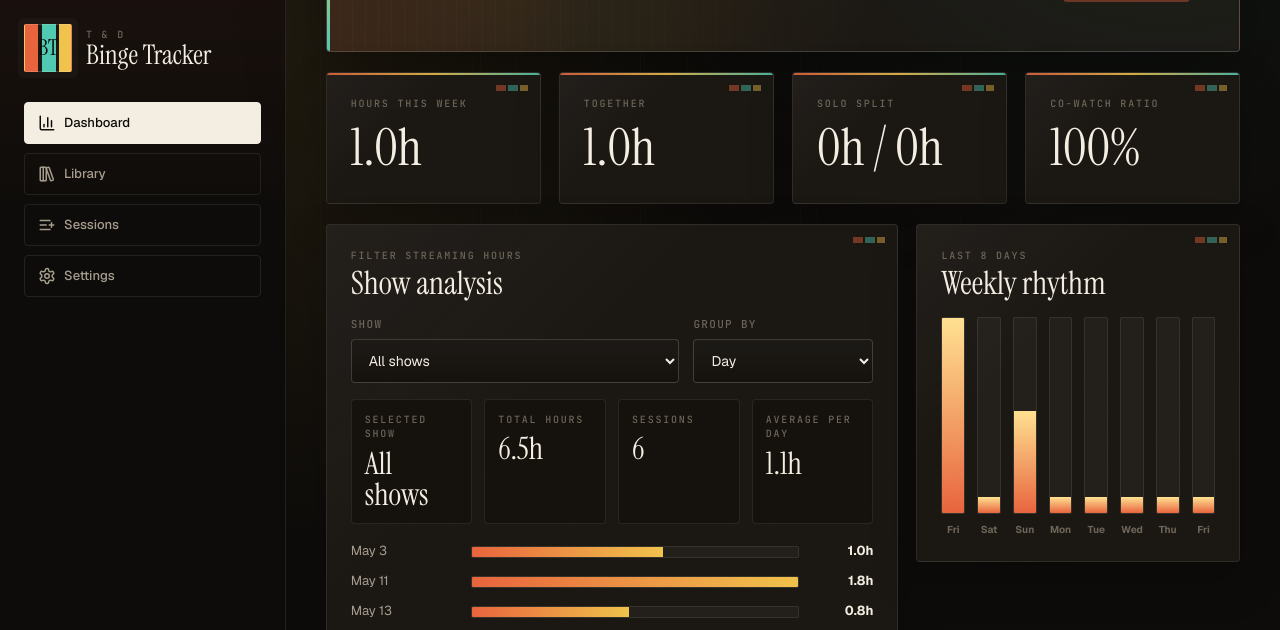
Test: filters dashboard analysis by show and time grouping
(page scrolled)
Check: the heading "Show analysis" is shown, box [351,268,522,299]
Select "Severance" in the dropdown named "analysis show" at (515, 361), box [351,339,680,383]
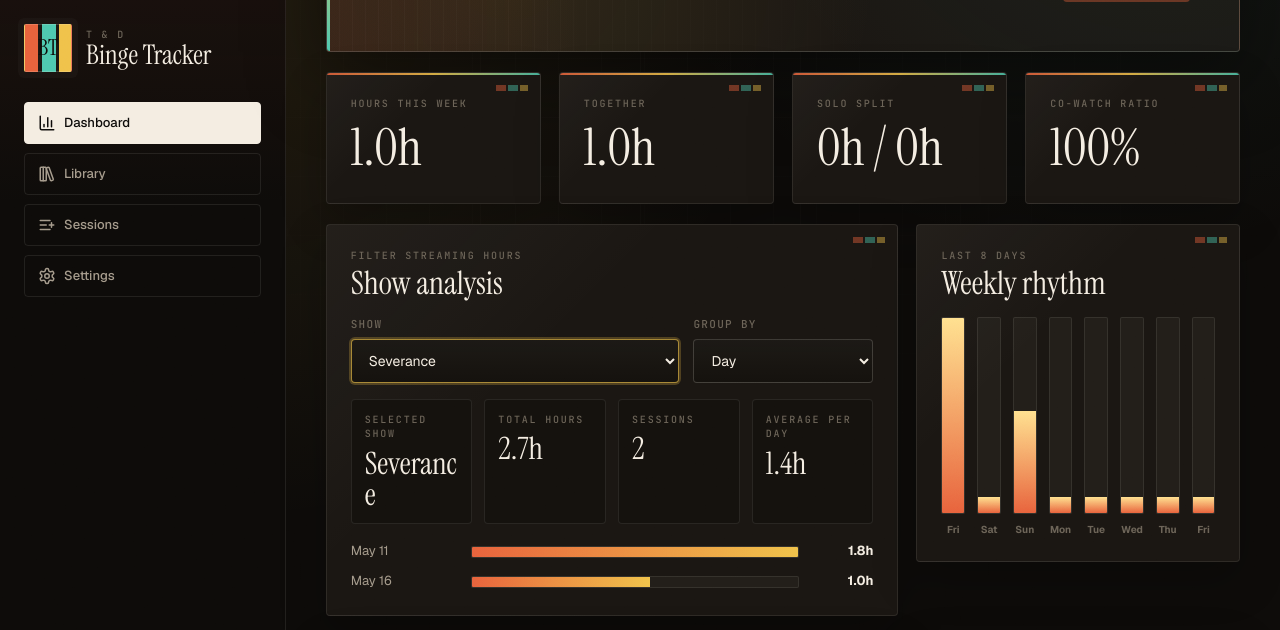
Select "Week" in the dropdown named "analysis grouping" at (783, 361), box [693,339,873,383]
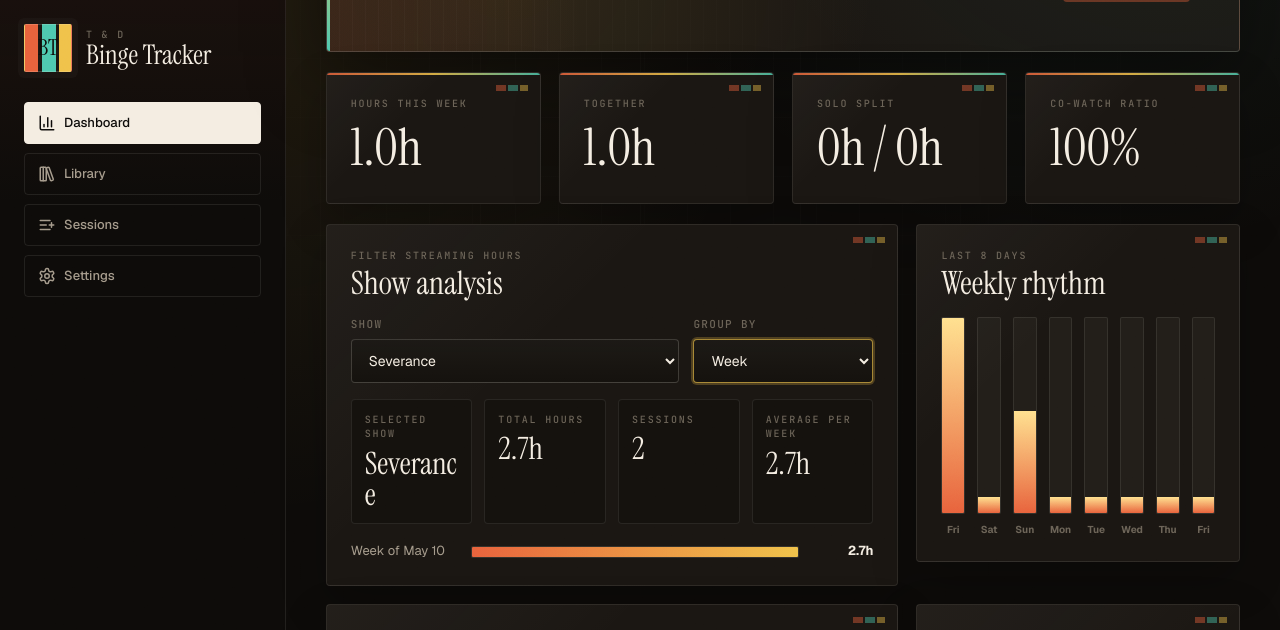
Check: the element named "filtered streaming analysis" shows "Sessions", box [632,413,694,426]
Check: the element named "filtered streaming analysis" shows "Severance", box [365,444,457,515]
Check: the text "Week of May 10" is shown, box [351,542,459,561]
